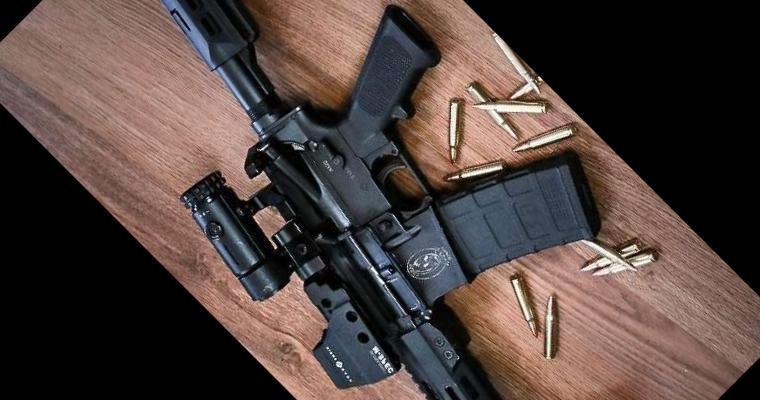larga: (161, 0, 604, 400)
